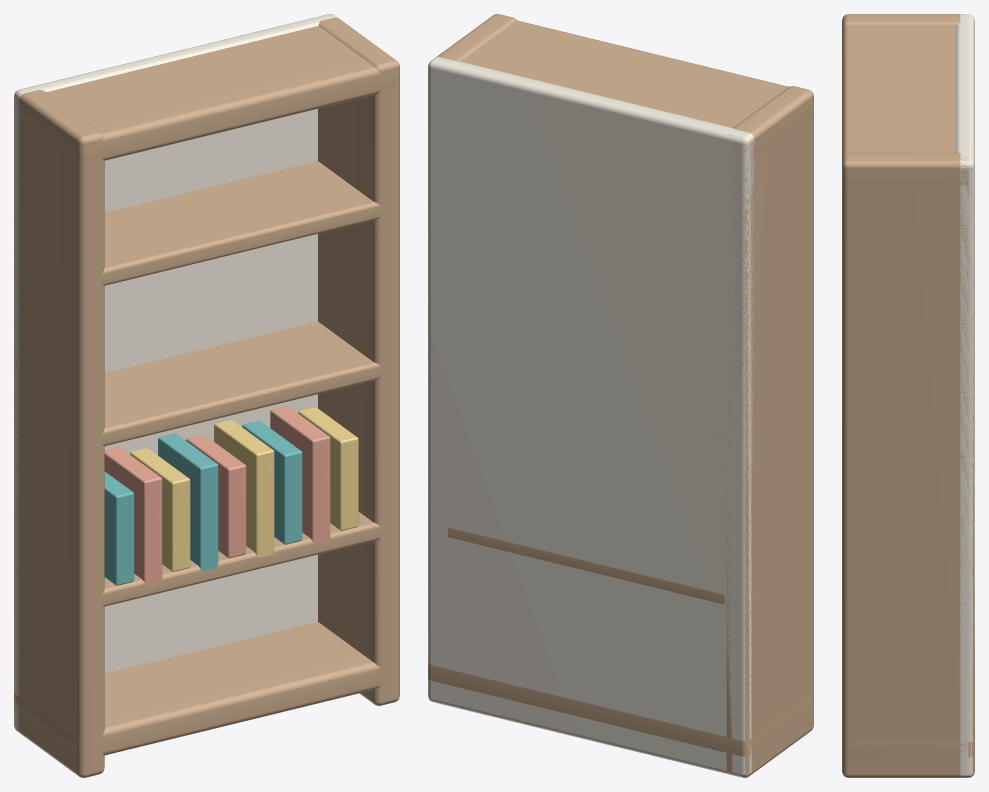
Rendered from Shelf.fbx.
3 renders of one model, left to right at view 1: azimuth 30°, elevation 25°; view 2: azimuth 150°, elevation 25°; view 3: azimuth 270°, elevation 25°, orthographic. The views are drawn at different scales.
Visible parts, largest first — view 1: Side, Back, Side.001, Frame.001, Frame, ShelfBoard.002, ShelfBoard.001, ShelfBoard, Book.005, Book.007, Book.003, Book.001 (+5 smaller); view 2: Back, Side, Frame.001, Frame, ShelfBoard, Side.001; view 3: Side.001, Frame.001, Back, Frame, Side.
Boxes of the visible parts, x1=… form: Side: x1=14, y1=89, x2=104, y2=777; Back: x1=14, y1=14, x2=337, y2=729; Side.001: x1=318, y1=17, x2=399, y2=705; Frame.001: x1=15, y1=26, x2=399, y2=161; Frame: x1=14, y1=621, x2=381, y2=755; ShelfBoard.002: x1=102, y1=161, x2=380, y2=285; ShelfBoard.001: x1=102, y1=321, x2=380, y2=446; ShelfBoard: x1=102, y1=512, x2=380, y2=606; Book.005: x1=214, y1=419, x2=274, y2=557; Book.007: x1=270, y1=406, x2=330, y2=544; Book.003: x1=158, y1=433, x2=218, y2=571; Book.001: x1=104, y1=447, x2=162, y2=585; Back: x1=428, y1=57, x2=754, y2=777; Side: x1=726, y1=86, x2=813, y2=777; Frame.001: x1=461, y1=20, x2=813, y2=159; Frame: x1=428, y1=663, x2=812, y2=756; ShelfBoard: x1=448, y1=527, x2=724, y2=604; Side.001: x1=428, y1=14, x2=517, y2=701; Side.001: x1=842, y1=152, x2=974, y2=777; Frame.001: x1=842, y1=25, x2=970, y2=185; Back: x1=956, y1=14, x2=974, y2=777; Frame: x1=848, y1=740, x2=974, y2=757; Side: x1=842, y1=14, x2=960, y2=28.
Bounding box in the file's own units: 86 × 164 × 32.
